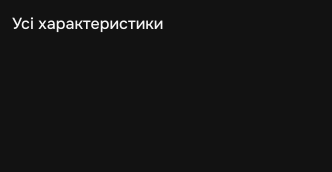
it: Collapsible › відкриває і закриває вміст
This screenshot has width=332, height=172.
Later steps or results of the test are not shown.
Expected: the text "Камера 48 Мп" is not shown
Click the button "Усі характеристики": (88, 24) [12,12,164,37]
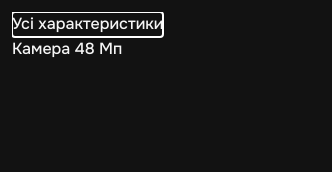
Result: the button "Усі характеристики" is expanded at [12,12,164,37]
Result: the text "Камера 48 Мп" is shown at [12,38,122,59]
